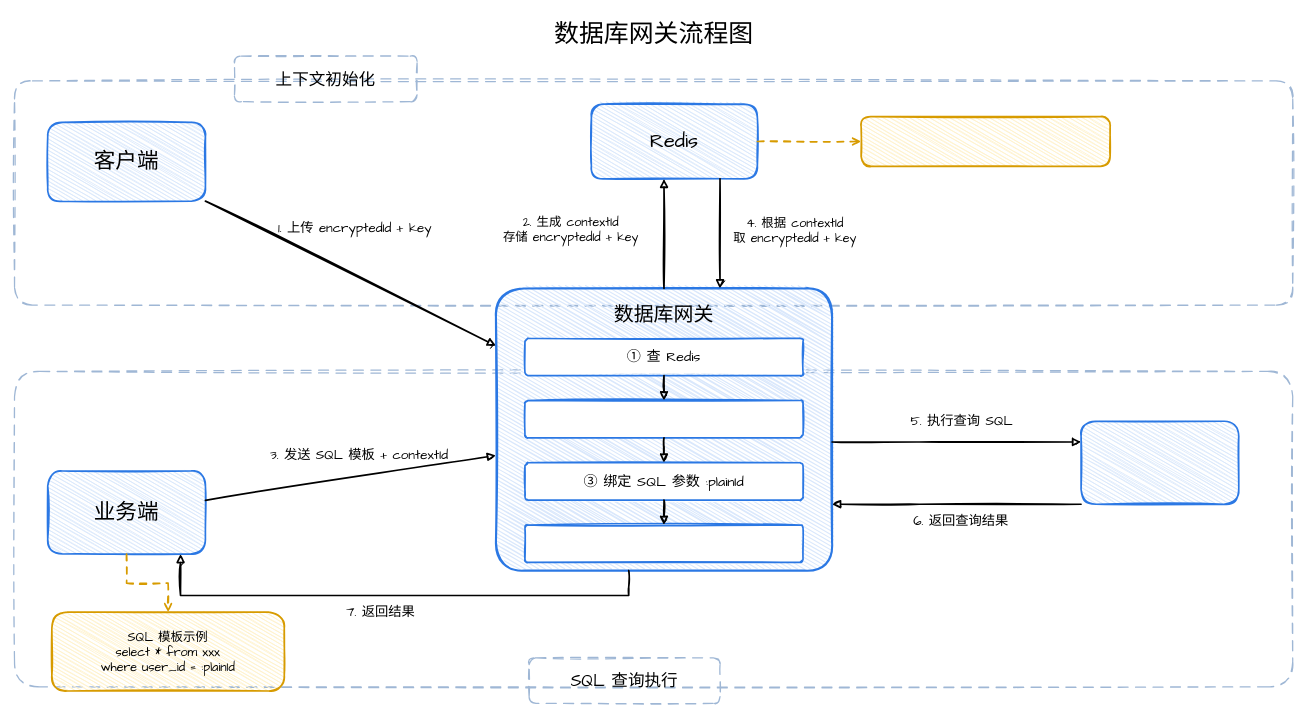
Some shapes in this 1308 by 718 pixel diagram are drawn without their labels. Each missing label, with the centre of its shape:
"ctx_001 → encryptedId + key" goes at [985,141].
"② 解密得到 plainId" goes at [663,418].
"④ NamedParameterJdbcTemplate 执行" goes at [663,543].
"数据库" goes at [1159,462].
